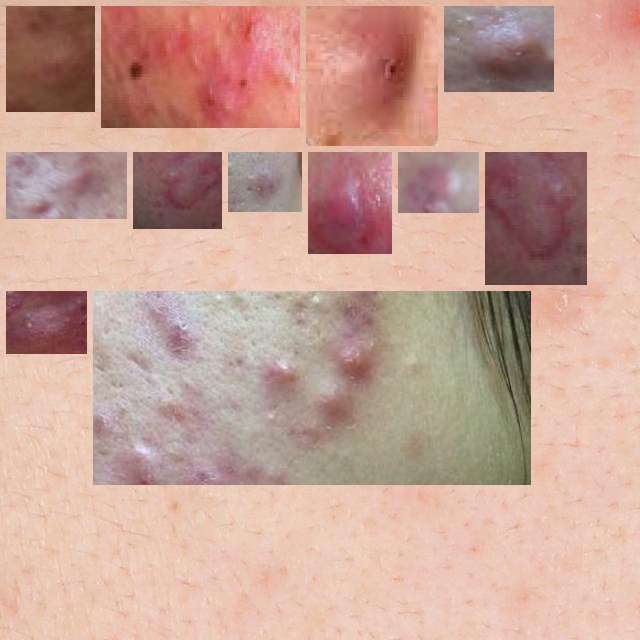nodule: (101, 299, 524, 477), (109, 14, 292, 120), (314, 14, 430, 138), (493, 160, 579, 277), (452, 14, 546, 84), (14, 14, 87, 104), (316, 160, 384, 246), (14, 160, 119, 211), (141, 160, 214, 221), (14, 299, 79, 347), (406, 160, 471, 205), (236, 160, 294, 204)
